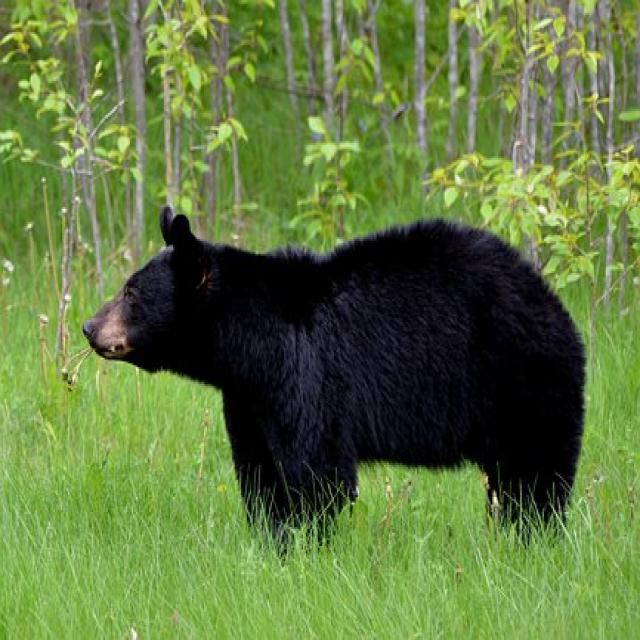Bear: (81, 207, 588, 540)
